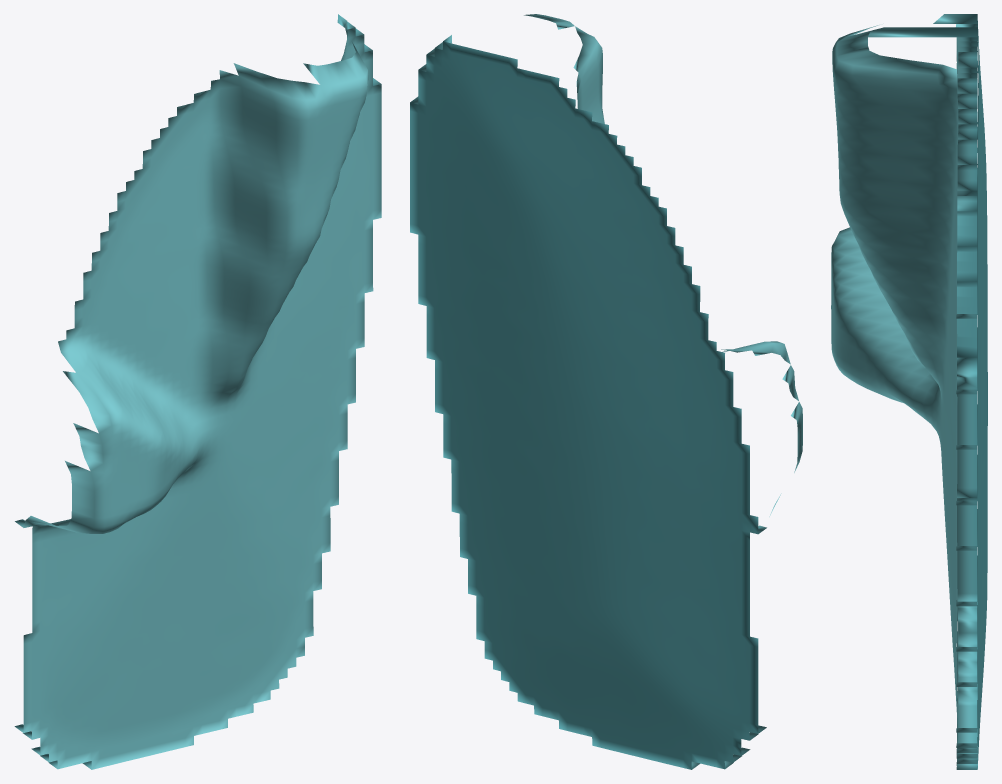
Rendered from PAIR-DRILL-FILL-1ST_RIGHT_addon.glb.
The picture shows the model from 3 angles, left to right: view 1: azimuth 30°, elevation 25°; view 2: azimuth 150°, elevation 25°; view 3: azimuth 270°, elevation 25°; orthographic projection. The views are drawn at different scales.
Parts seen in each view (by area): view 1: geometry_0; view 2: geometry_0; view 3: geometry_0.
Part boxes in pixels (x1,y1,x2,y2): geometry_0: [14, 14, 381, 769]; geometry_0: [410, 14, 802, 769]; geometry_0: [831, 14, 987, 769].
Bounding box in the file's own units: 42 × 77 × 14.16.
